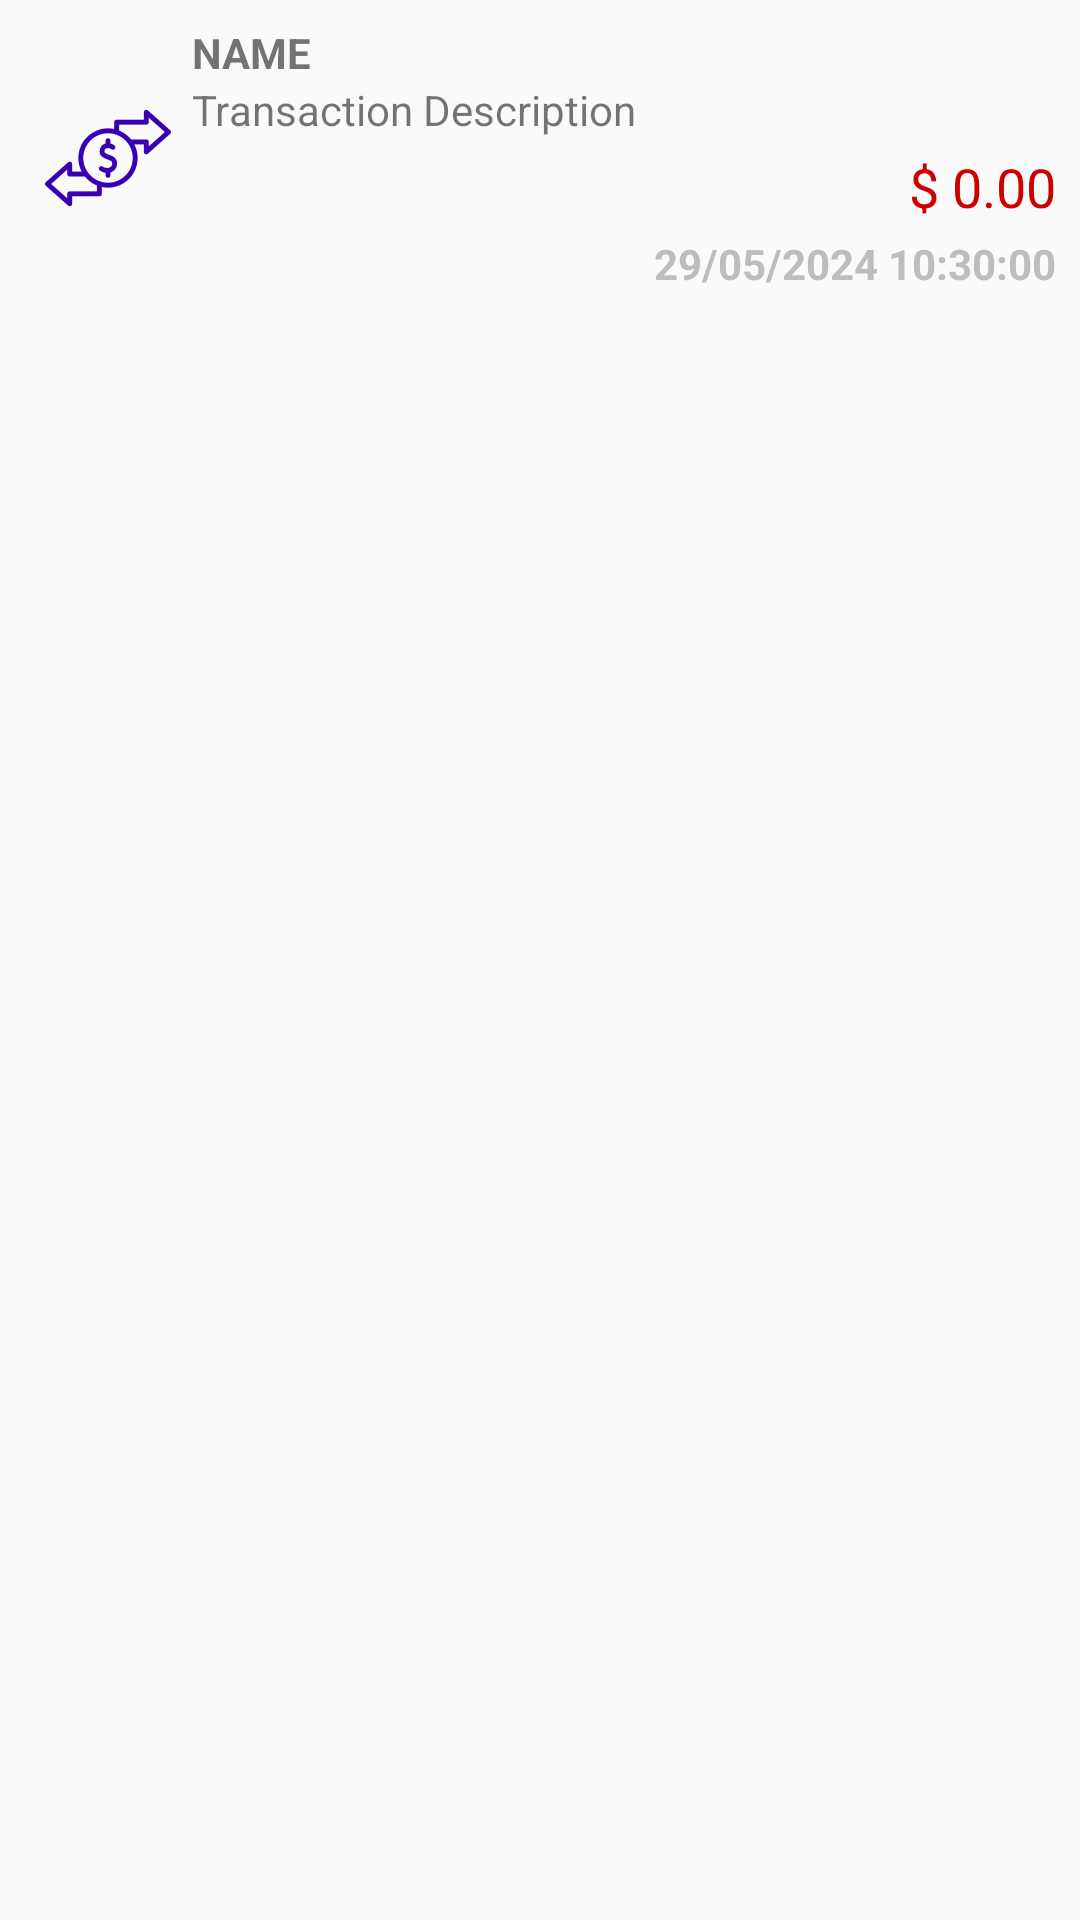

Where icons sit on this 1080px x 1920px app screen, as (x1, y1, x2, y2):
transaccion: (45, 109, 171, 207)
